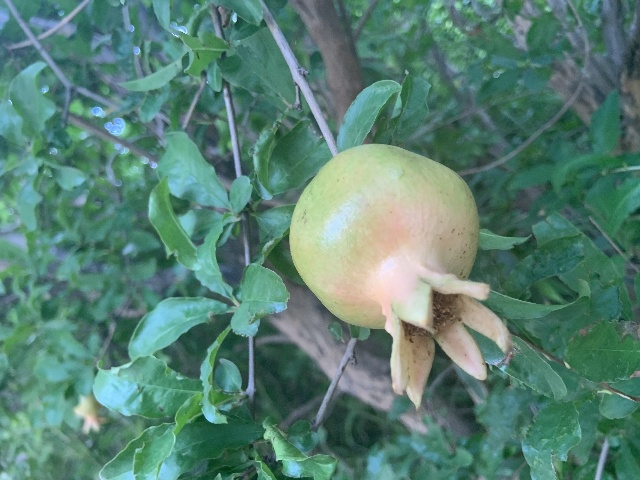mid-growth: (289, 143, 514, 410), (73, 393, 110, 433)
